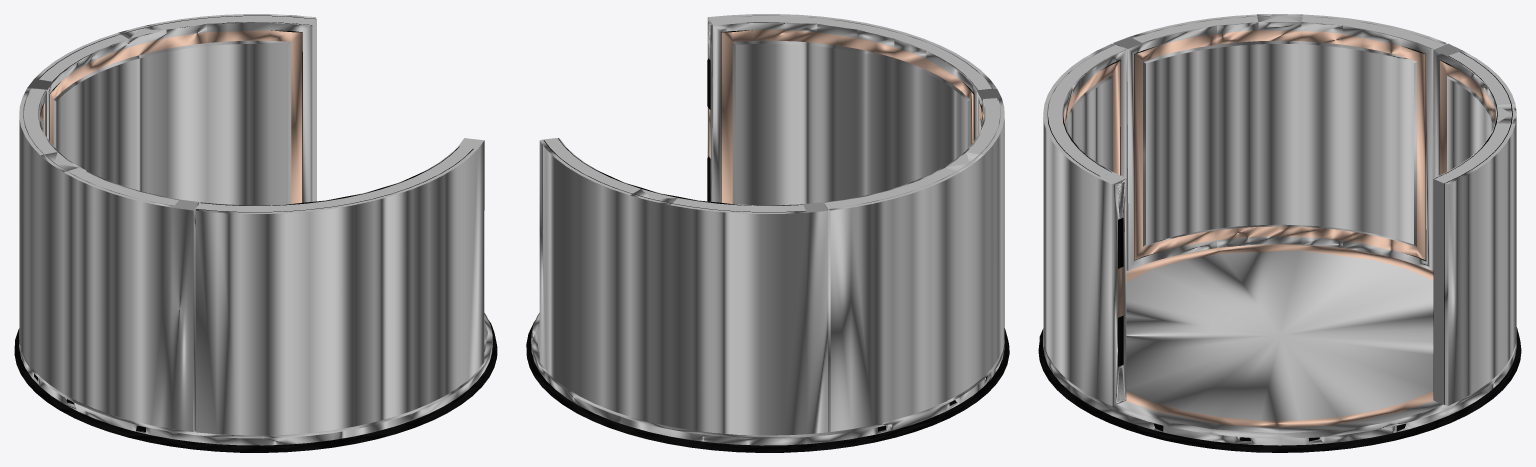
Rendered from hangar_business_v2_elevator_shaft_bottom_01.glb.
3 renders of one model, left to right at view 1: azimuth 30°, elevation 25°; view 2: azimuth 150°, elevation 25°; view 3: azimuth 270°, elevation 25°, orthographic.
Size of the model in its own units: 5.34 by 2.9 by 5.34.
